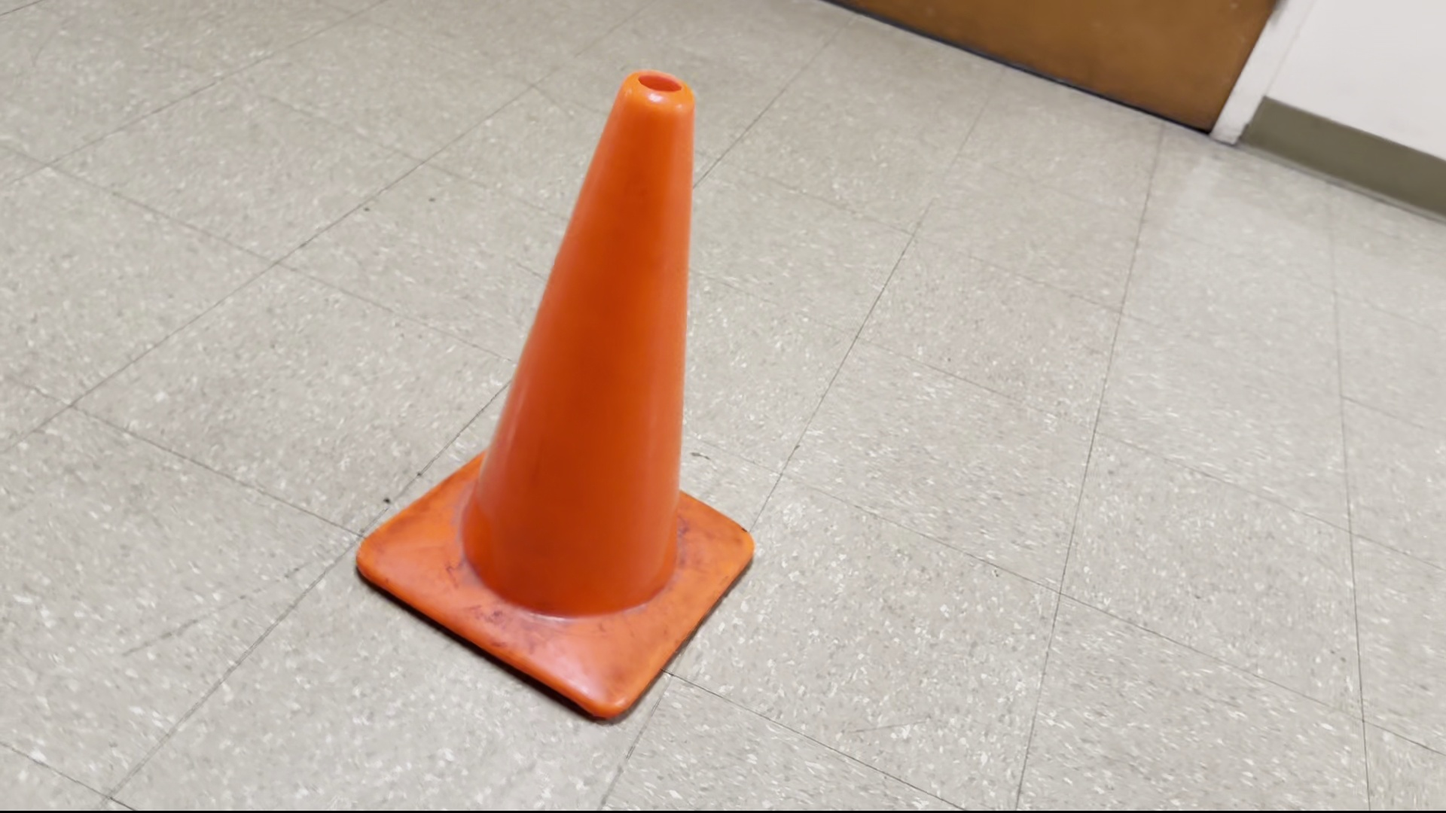traffic_cone: (354, 67, 756, 722)
